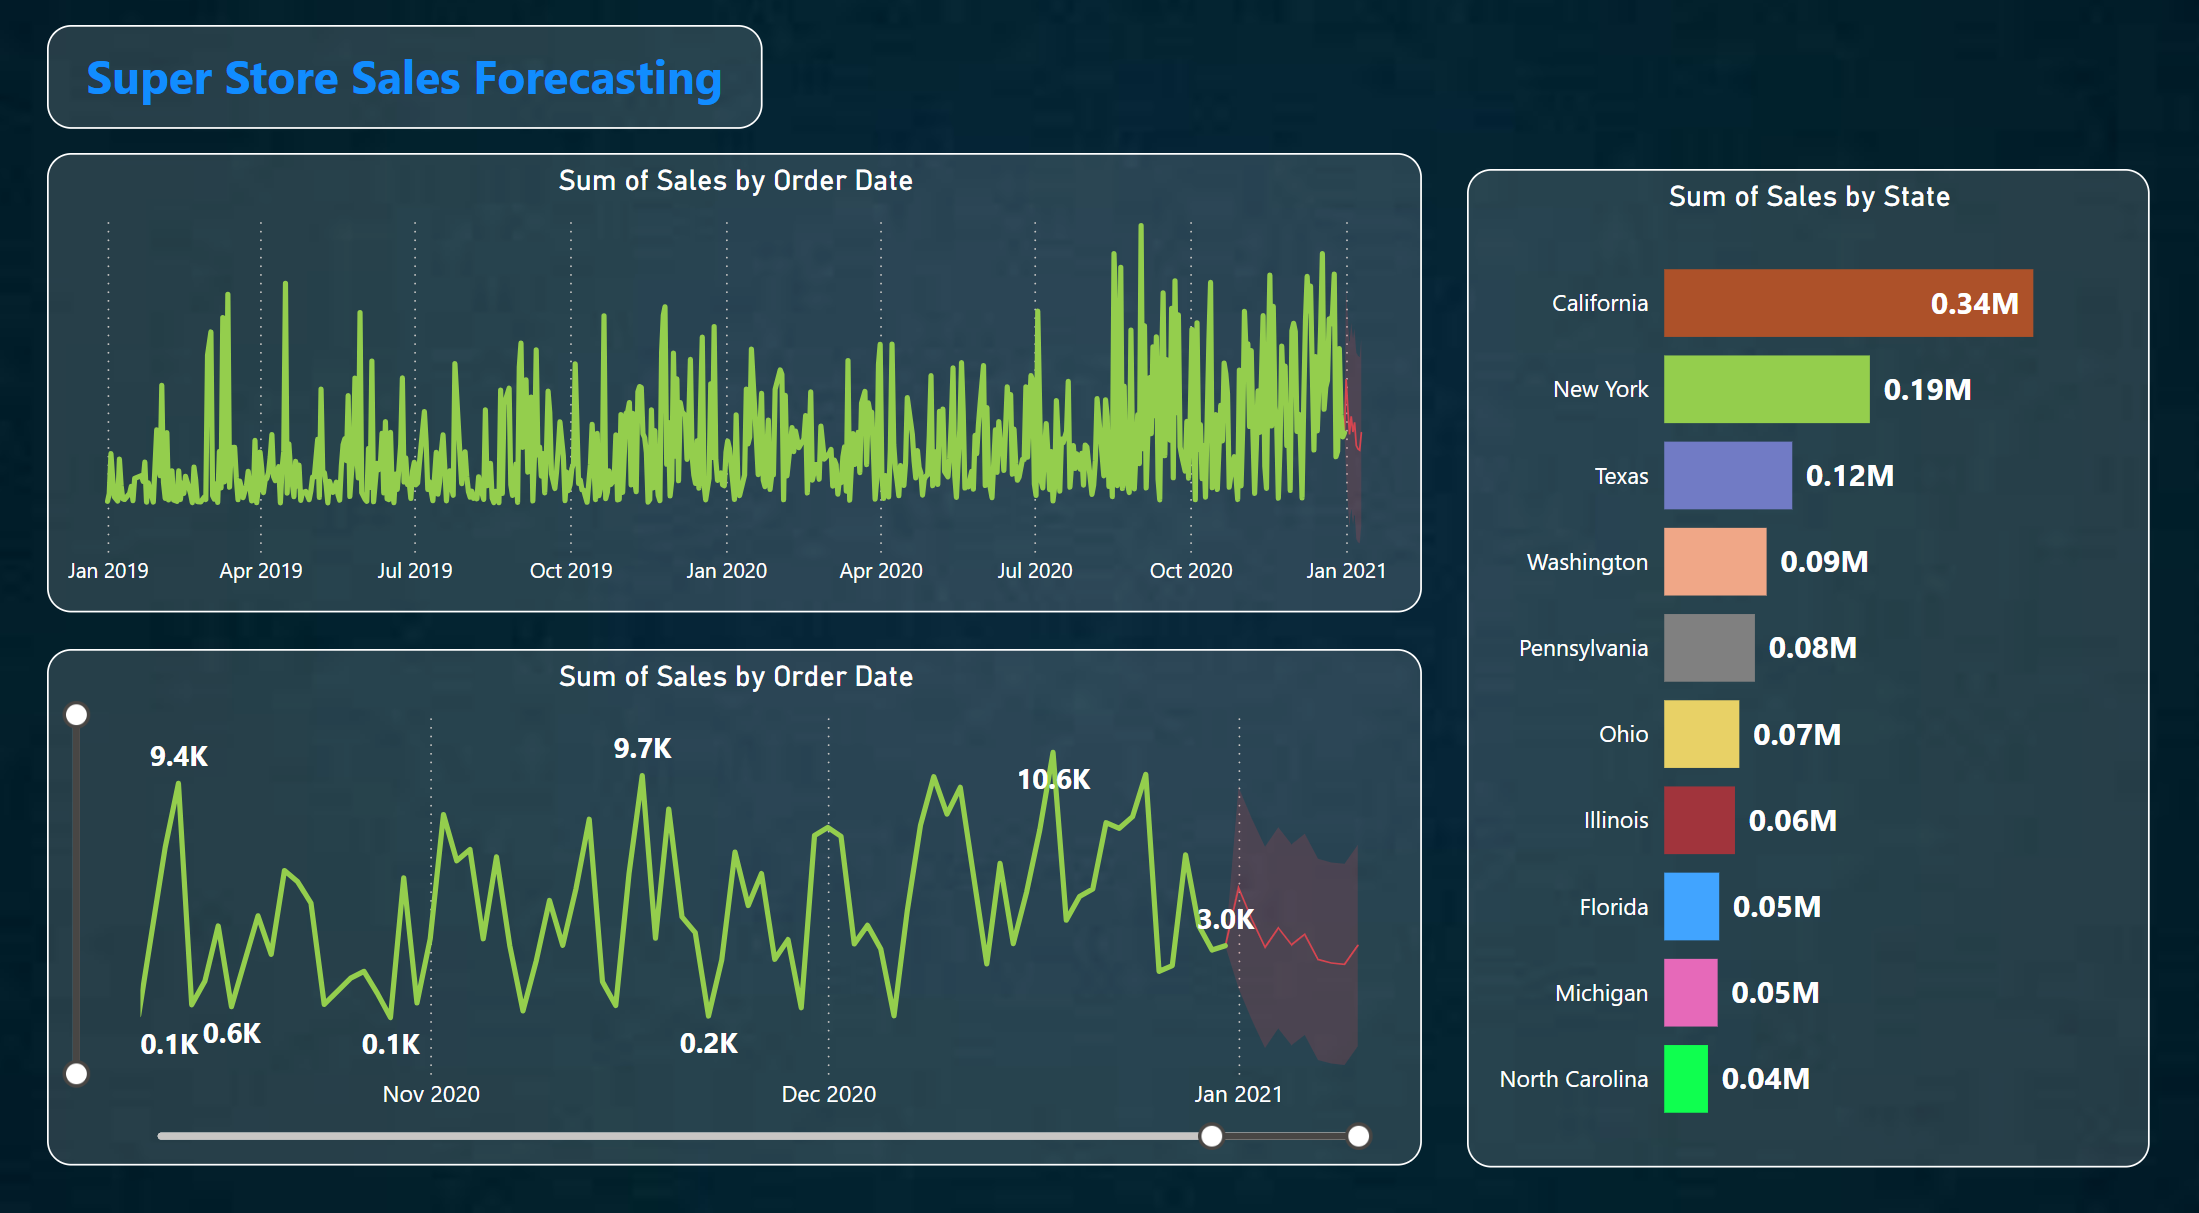

The dashboard page shown, as its layout file describes it:
{"tool":"powerbi","page":{"name":"Page 2","canvas":[1280,720],"ordinal":1},"visuals":[{"type":"lineChart","fields":{"Y":["Sum(SuperStore Sales DataSet xlsx - Sheet1.Sales)"],"Category":["SuperStore Sales DataSet xlsx - Sheet1.Order Date"]},"box":[31.8,95.5,794.5,265.5],"z":0},{"type":"lineChart","fields":{"Y":["Sum(SuperStore Sales DataSet xlsx - Sheet1.Sales)"],"Category":["SuperStore Sales DataSet xlsx - Sheet1.Order Date"]},"box":[32.2,382.8,794.6,298.6],"z":1000},{"type":"clusteredBarChart","fields":{"Category":["SuperStore Sales DataSet xlsx - Sheet1.State"],"Y":["Sum(SuperStore Sales DataSet xlsx - Sheet1.Sales)"]},"box":[852.9,105.7,394.3,577.1],"z":2000},{"type":"textbox","box":[31.8,21.8,413.6,60],"z":2001}]}

Visuals, with their boxes in screenshot pixels (x1, y1, x2, y2), scaled from the page's 1280x720 canvas onto the 2199x1213 screenshot:
lineChart - Sum(SuperStore Sales DataSet xlsx - Sheet1.Sales) x SuperStore Sales DataSet xlsx - Sheet1.Order Date: crop(55, 161, 1420, 608)
lineChart - Sum(SuperStore Sales DataSet xlsx - Sheet1.Sales) x SuperStore Sales DataSet xlsx - Sheet1.Order Date: crop(55, 645, 1420, 1148)
clusteredBarChart - SuperStore Sales DataSet xlsx - Sheet1.State x Sum(SuperStore Sales DataSet xlsx - Sheet1.Sales): crop(1465, 178, 2143, 1150)
textbox: crop(55, 37, 765, 138)
